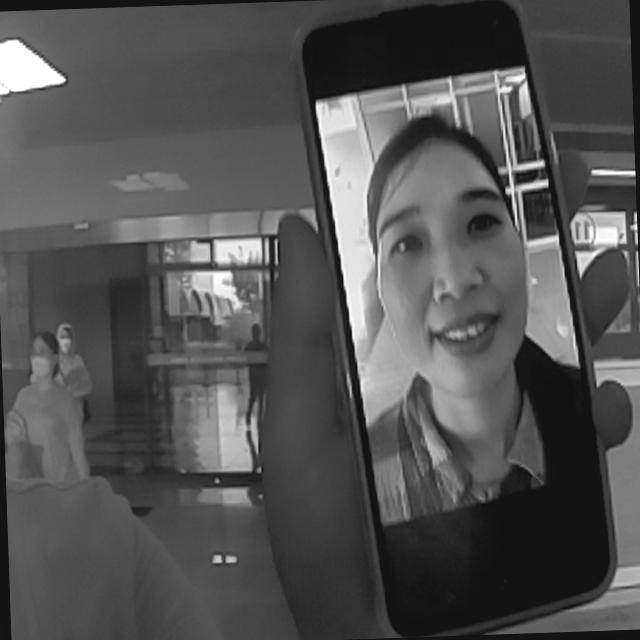fake: (299, 0, 621, 634)
